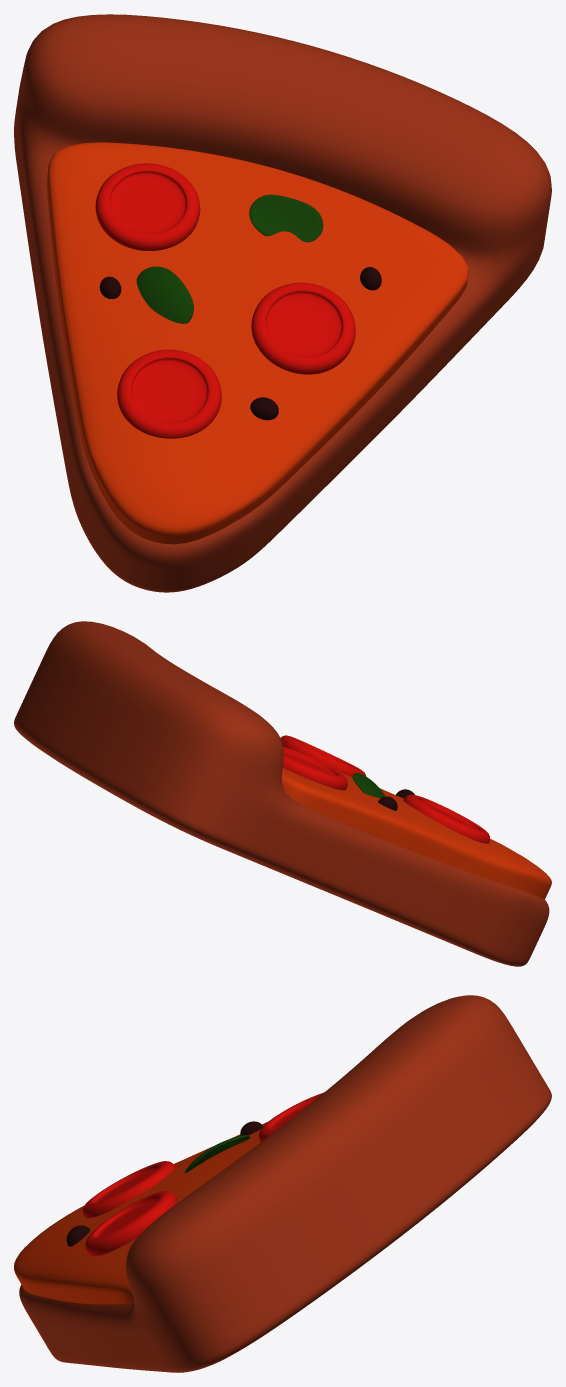
The model's file is Pizza Slice.obj.
3 views of the same model, one above another, from view 1: azimuth 30°, elevation 25°; view 2: azimuth 150°, elevation 25°; view 3: azimuth 270°, elevation 25° (orthographic). The views are drawn at different scales.
Parts seen in each view (by area): view 1: Cylinder.058_Cylinder.126, Cylinder.059_Cylinder.125, Cylinder.057_Cylinder.127, Cube.048_Cube.138, Sphere.034_Sphere.069; view 2: Cylinder.058_Cylinder.126, Cylinder.059_Cylinder.125, Cylinder.057_Cylinder.127, Cube.048_Cube.138; view 3: Cylinder.058_Cylinder.126, Cylinder.059_Cylinder.125, Cylinder.057_Cylinder.127, Cube.048_Cube.138, Sphere.034_Sphere.069.
Part boxes in pixels (<box>): Cylinder.058_Cylinder.126: <box>14,14,551,592</box>; Cylinder.059_Cylinder.125: <box>46,142,468,544</box>; Cylinder.057_Cylinder.127: <box>95,163,355,438</box>; Cube.048_Cube.138: <box>136,194,323,323</box>; Sphere.034_Sphere.069: <box>99,267,381,420</box>; Cylinder.058_Cylinder.126: <box>14,621,549,966</box>; Cylinder.059_Cylinder.125: <box>281,768,551,899</box>; Cylinder.057_Cylinder.127: <box>280,735,489,843</box>; Cube.048_Cube.138: <box>352,773,385,798</box>; Cylinder.058_Cylinder.126: <box>19,995,551,1372</box>; Cylinder.059_Cylinder.125: <box>14,1122,267,1304</box>; Cylinder.057_Cylinder.127: <box>83,1092,323,1256</box>; Cube.048_Cube.138: <box>184,1135,249,1173</box>; Sphere.034_Sphere.069: <box>66,1121,262,1246</box>.
Size of the model in its own units: 8.08 by 6.07 by 7.53.
